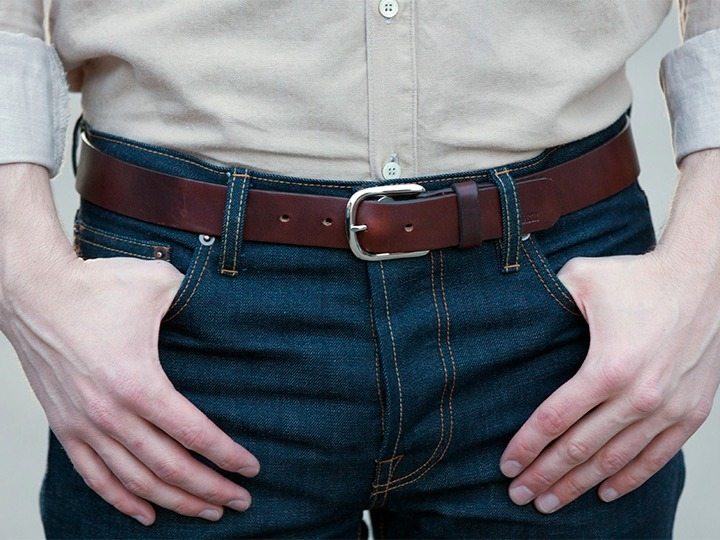C_jeans: (54, 124, 690, 533)
F_belt: (59, 132, 670, 267)
